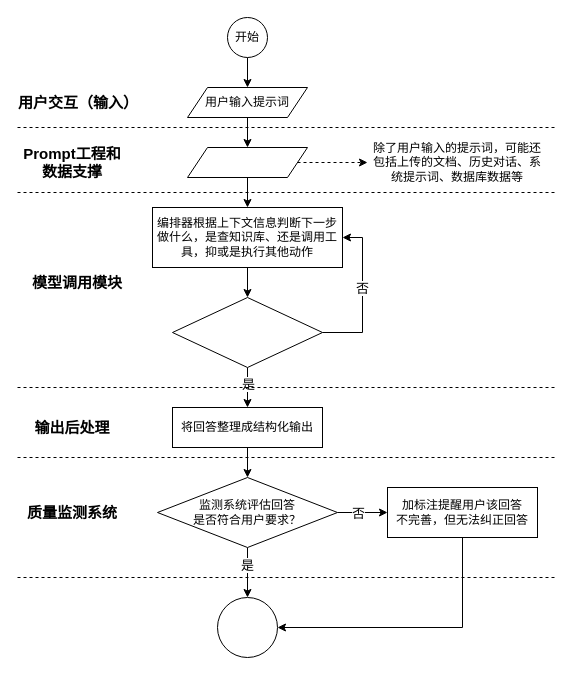
The diagram is 576 pixels wide and 675 high, and some of its shapes have lost their labels. The centre of each missing label's shape, as x and y in pixels:
是否满足生成 最终答案的条件？: the point at 247,332
注入上下文: the point at 247,162
返回回答给用户: the point at 247,627
